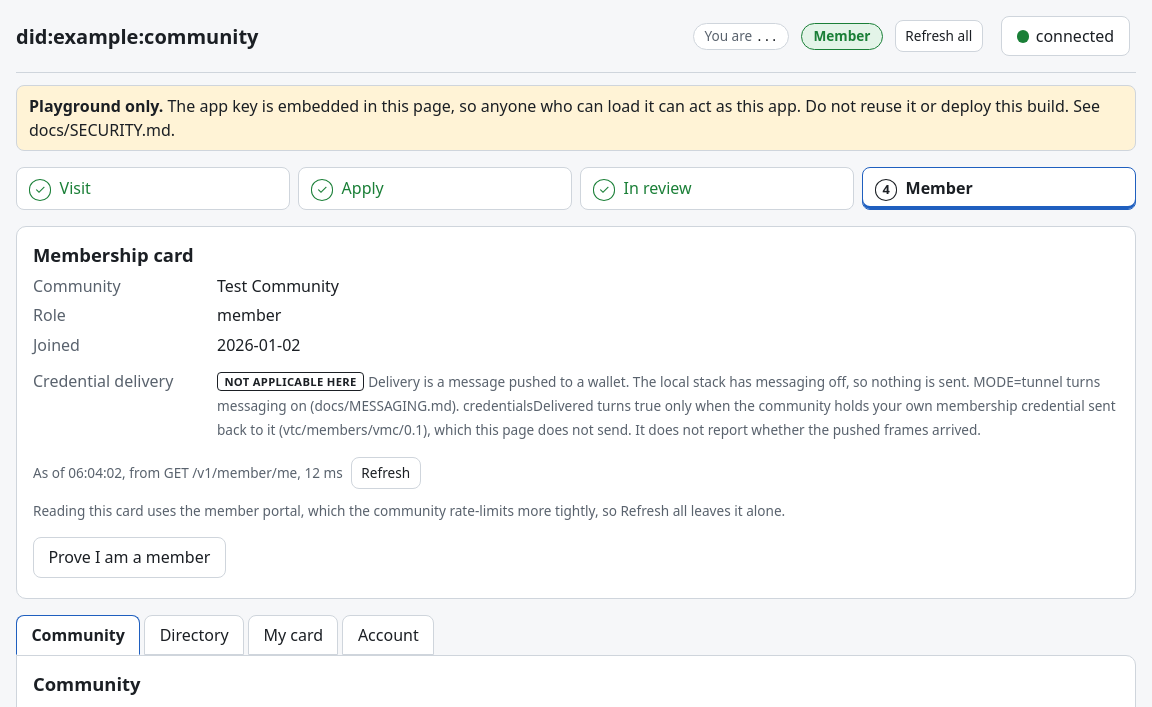
Test case: member › edits the card with the revision it read, then shows what the community now holds
This screenshot has width=1152, height=707.
Click the tab "My card": point(293, 635) [248,614,338,655]
(page scrolled)
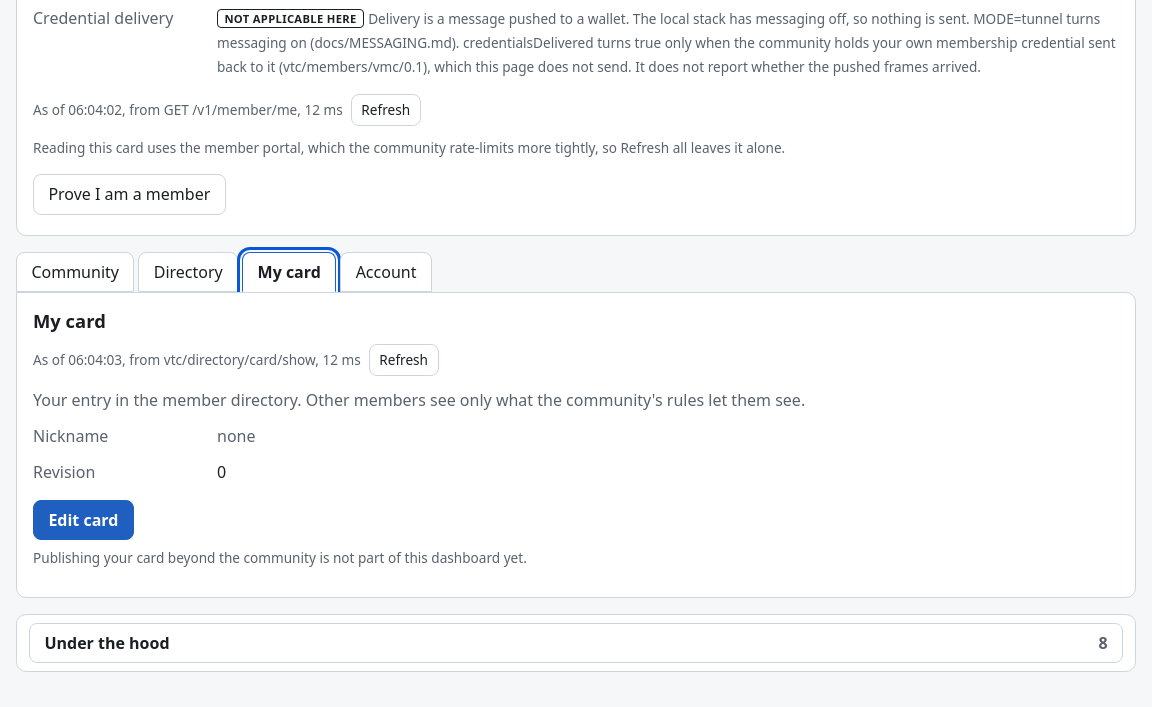
Click the button "Edit card": point(83, 520) [33,500,134,540]
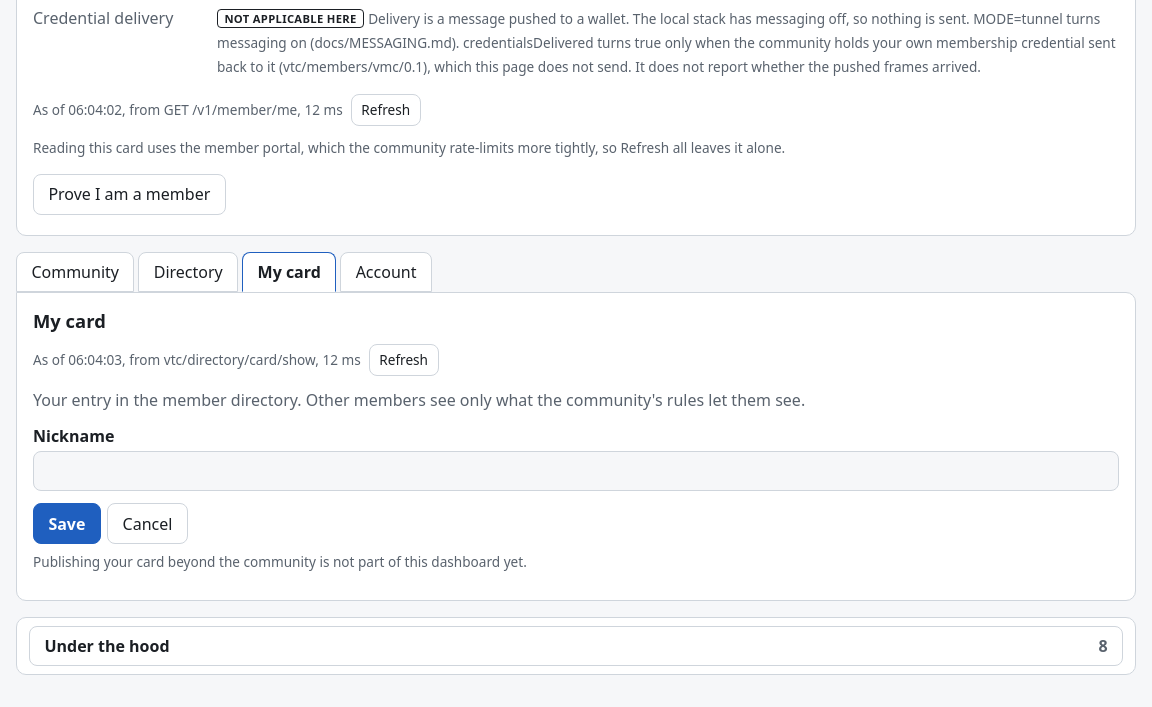
In the field labelled "Nickname": point(576, 471) [33,451,1119,492], type "Grace"
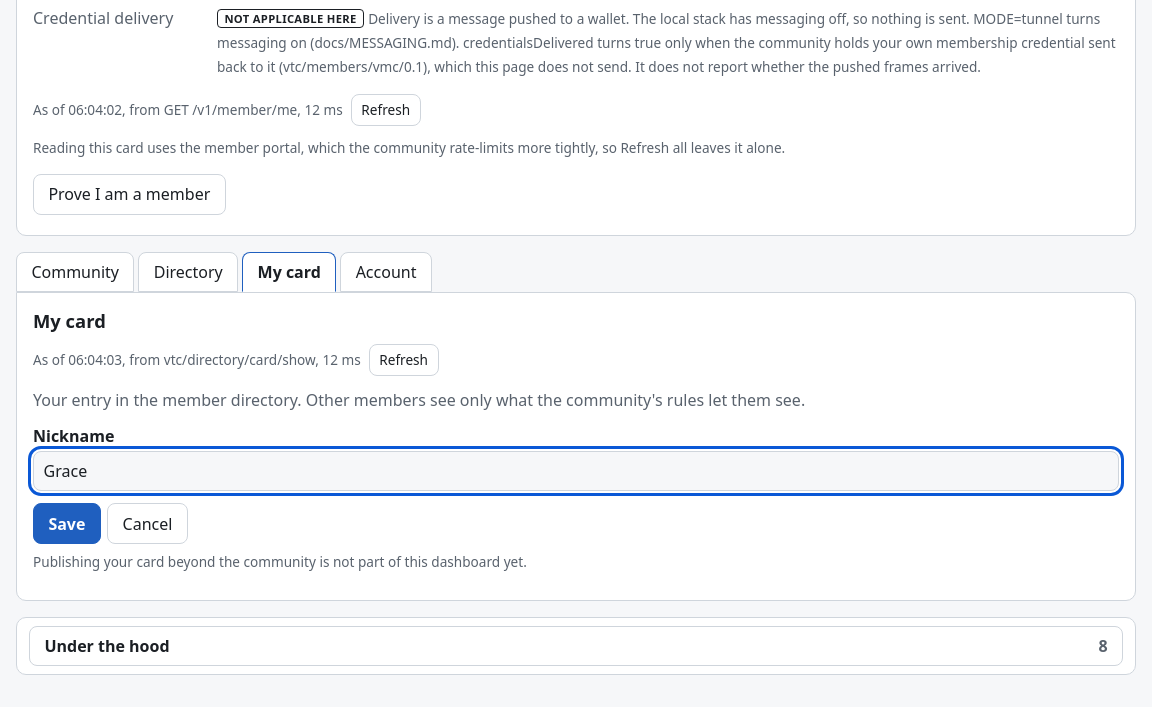
Click the button "Save": point(67, 524) [33,504,101,544]
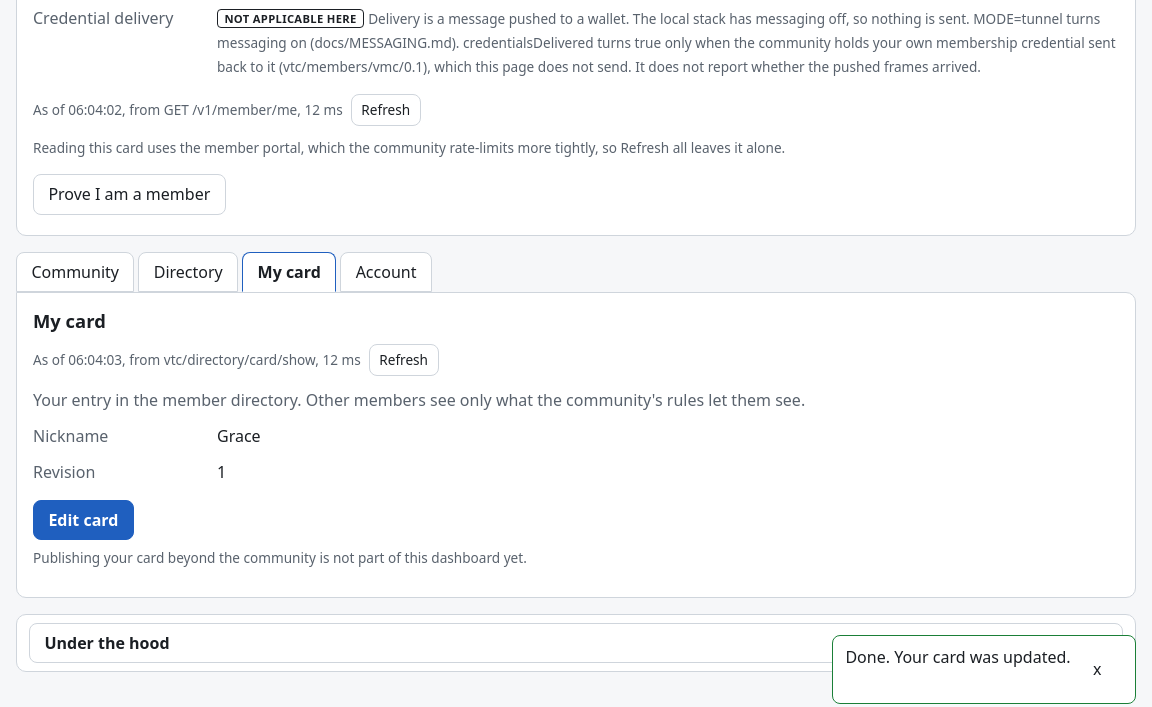
Result: the text "Grace" is shown at [217,425,261,447]
